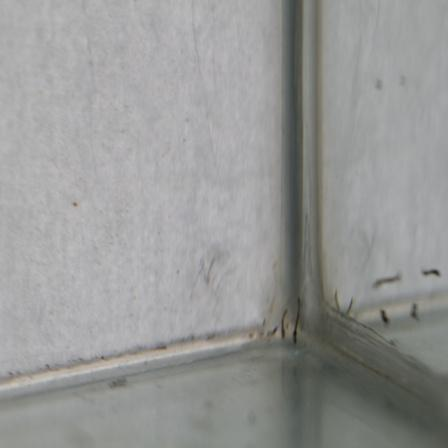Jentik-Nyamuk: (289, 293, 302, 346), (278, 306, 288, 341)
